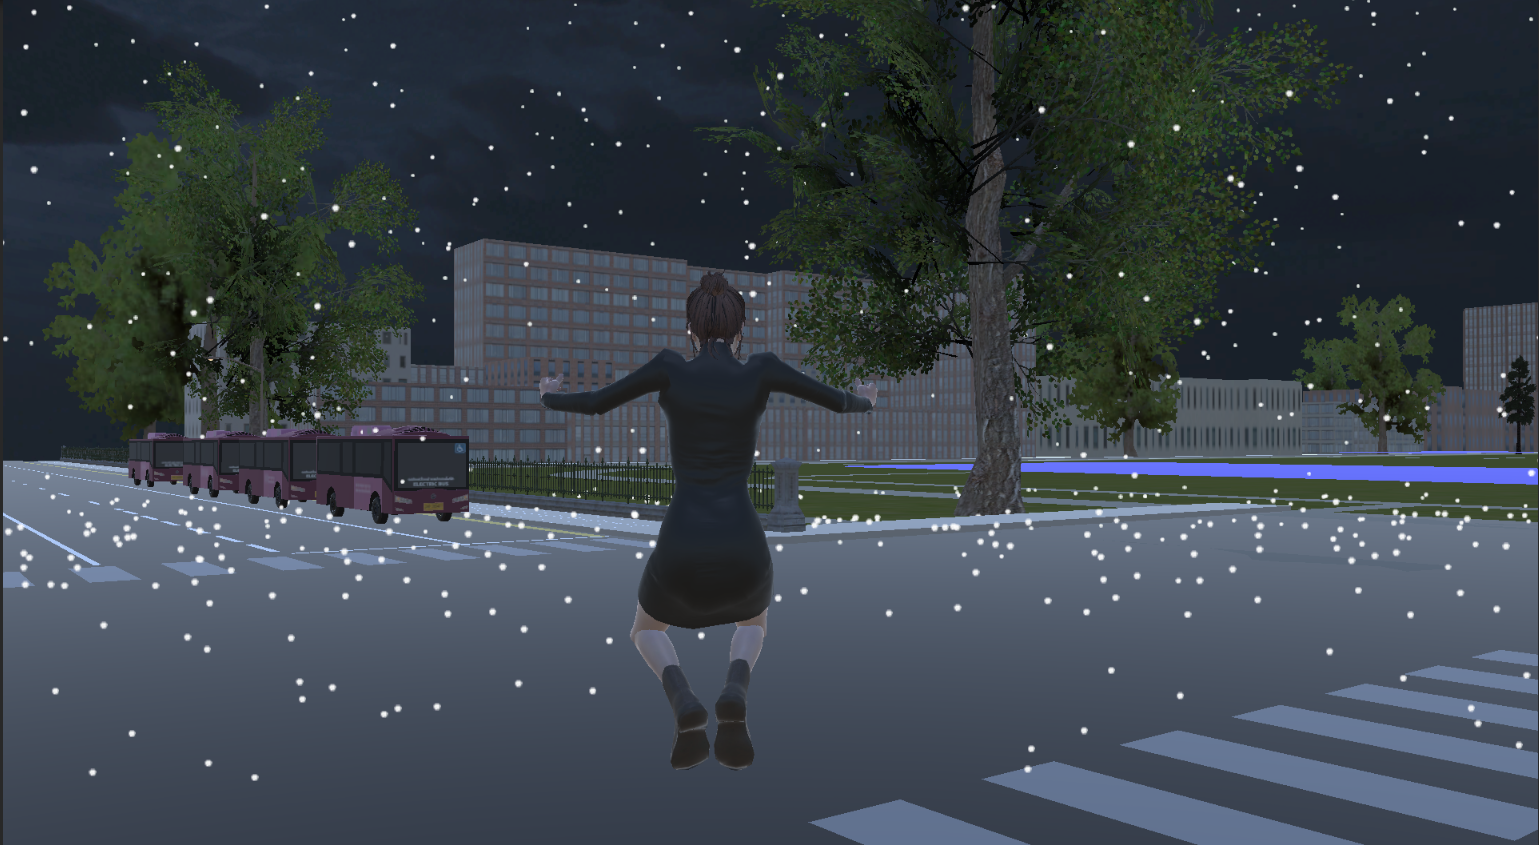pedestrian: (522, 251, 884, 787)
